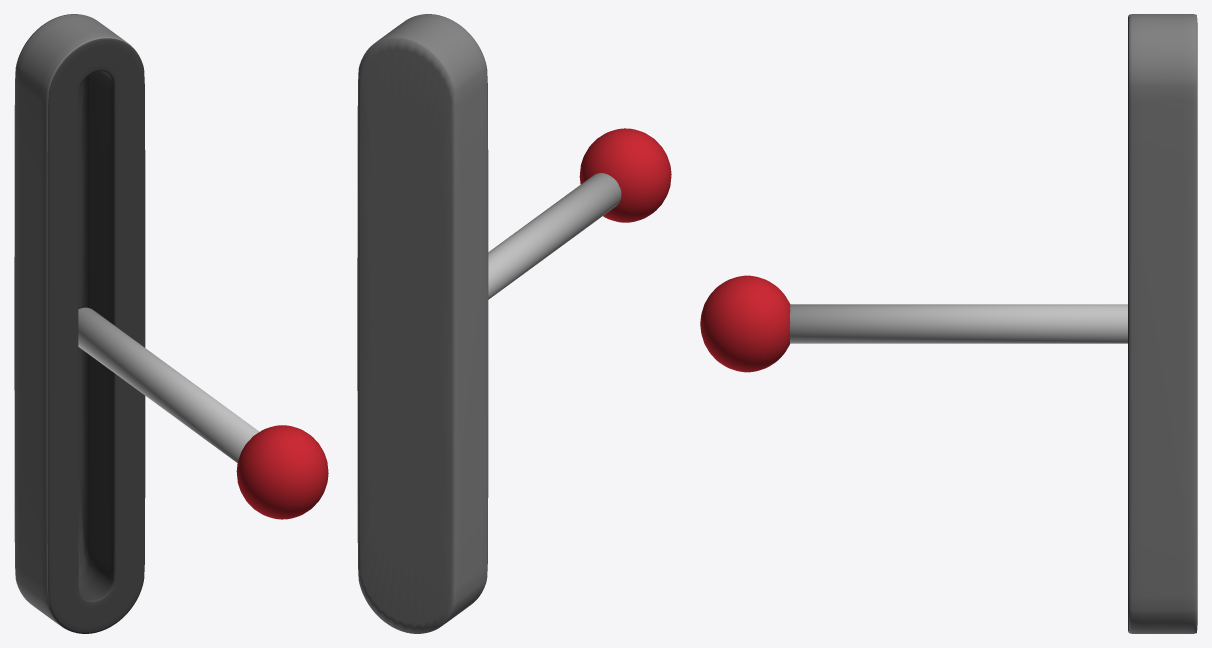
The model's file is Lever_Full_Model.glb.
The picture shows the model from 3 angles, left to right: view 1: azimuth 30°, elevation 25°; view 2: azimuth 150°, elevation 25°; view 3: azimuth 270°, elevation 25°; orthographic projection. The views are drawn at different scales.
Visible parts, largest first — view 1: Cylinder, Cylinder.001, Sphere; view 2: Cylinder, Cylinder.001, Sphere; view 3: Cylinder, Cylinder.001, Sphere.
Boxes of the visible parts, x1=… form: Cylinder: x1=14, y1=14, x2=145, y2=633; Cylinder.001: x1=78, y1=307, x2=259, y2=462; Sphere: x1=236, y1=425, x2=328, y2=519; Cylinder: x1=357, y1=14, x2=488, y2=633; Cylinder.001: x1=488, y1=173, x2=621, y2=299; Sphere: x1=579, y1=128, x2=671, y2=222; Cylinder: x1=1128, y1=14, x2=1197, y2=633; Cylinder.001: x1=789, y1=304, x2=1127, y2=343; Sphere: x1=700, y1=275, x2=790, y2=372.
Size of the model in its own units: 2 by 11.45 by 8.47.
